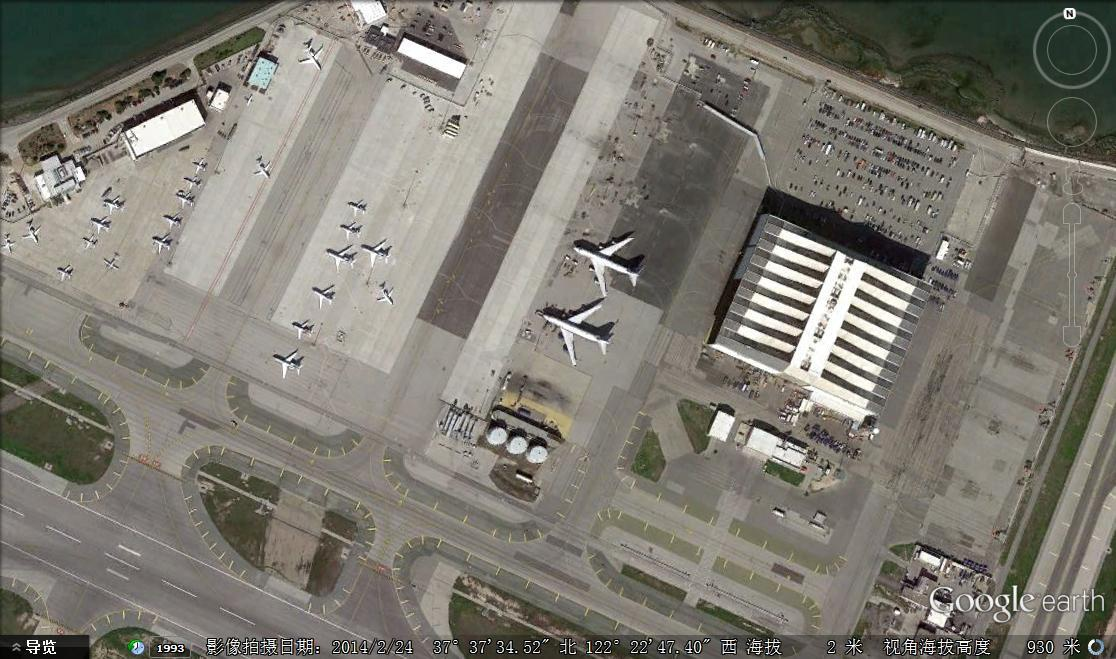aircraft: (536, 297, 617, 371), (573, 235, 649, 300), (293, 39, 328, 76), (360, 239, 397, 270), (321, 245, 360, 274), (273, 348, 307, 381), (312, 282, 341, 311), (343, 196, 374, 219), (335, 219, 366, 242), (149, 233, 175, 259), (291, 317, 318, 342), (21, 218, 44, 247), (100, 250, 124, 277), (101, 194, 127, 218), (375, 282, 398, 308), (254, 154, 275, 182), (158, 211, 182, 235), (173, 190, 198, 211), (52, 264, 78, 284), (88, 214, 112, 235), (192, 154, 211, 176), (184, 174, 205, 190), (2, 235, 17, 257), (80, 235, 100, 251)
